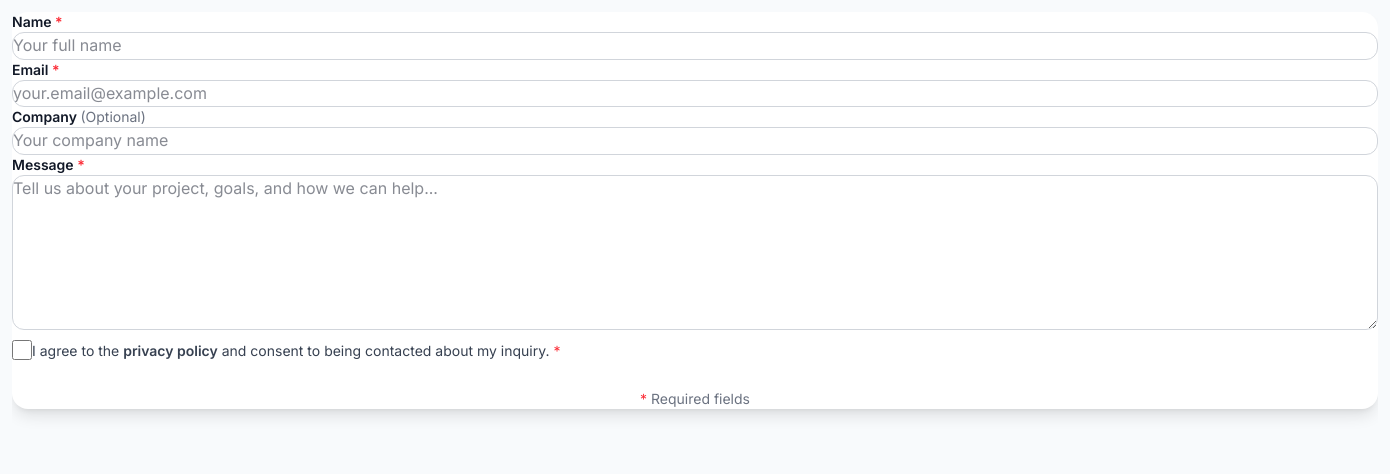
Test: ContactForm › clears form after successful submission
The width and height of the screenshot is (1390, 474).
# Fill in form
Type "John Doe" into the field labelled "Name *" at (695, 46), box [12, 32, 1378, 60]
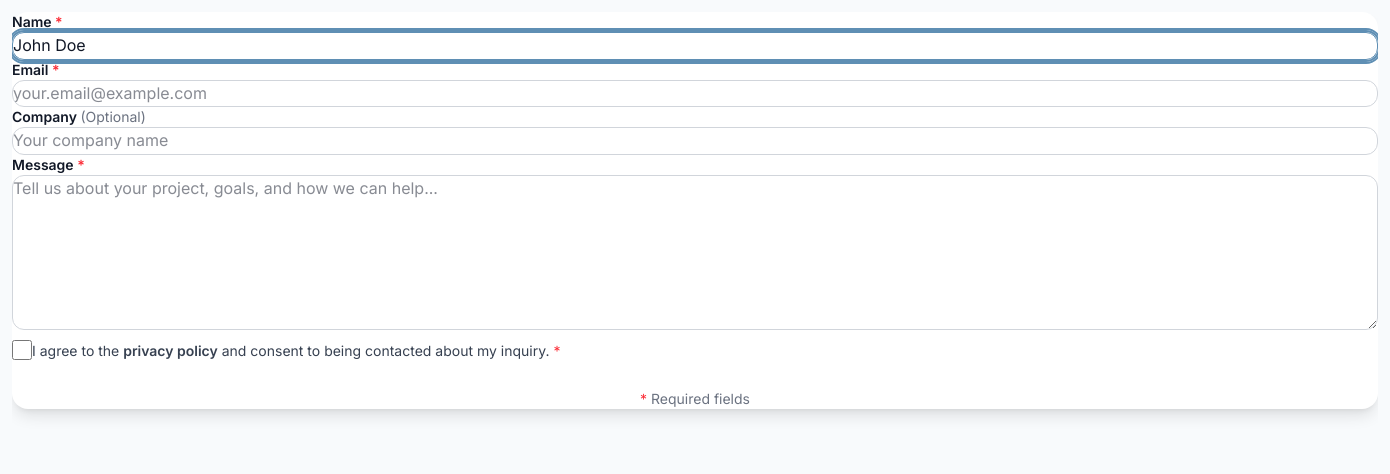
Type "john@example.com" into the field labelled "Email *" at (695, 93), box [12, 80, 1378, 107]
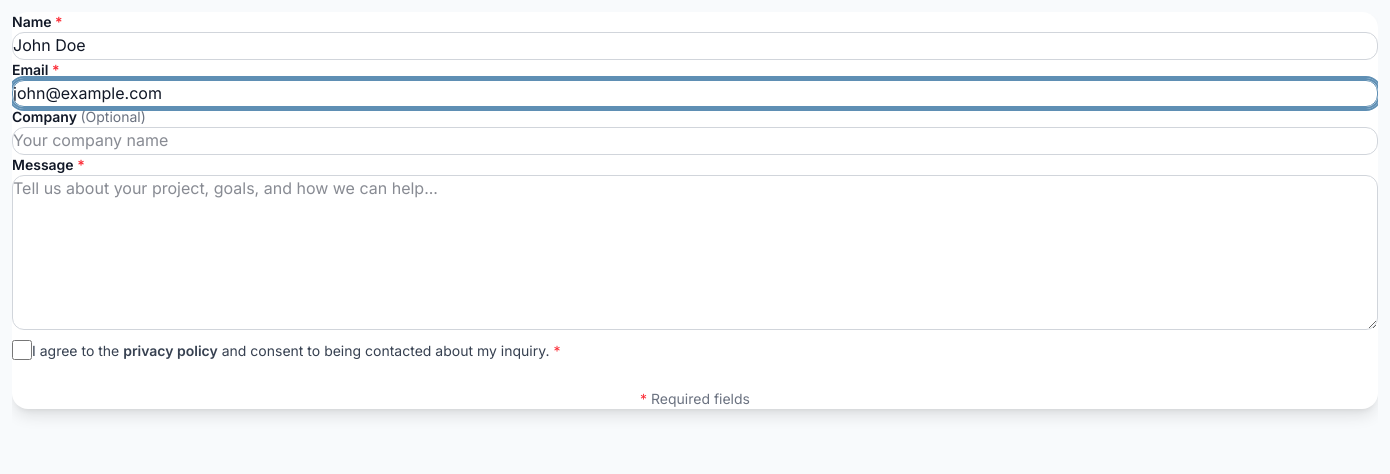
Type "This is a test message" into the text box labelled "Message *" at (695, 253), box [12, 175, 1378, 330]
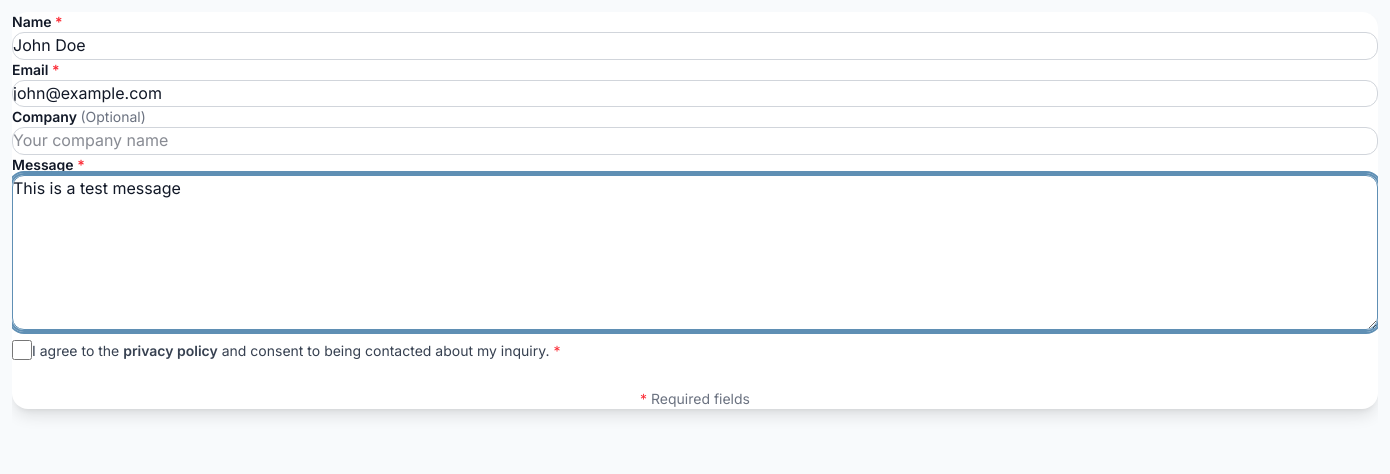
Click the checkbox labelled "privacy policy" at (22, 350), box [12, 340, 32, 360]
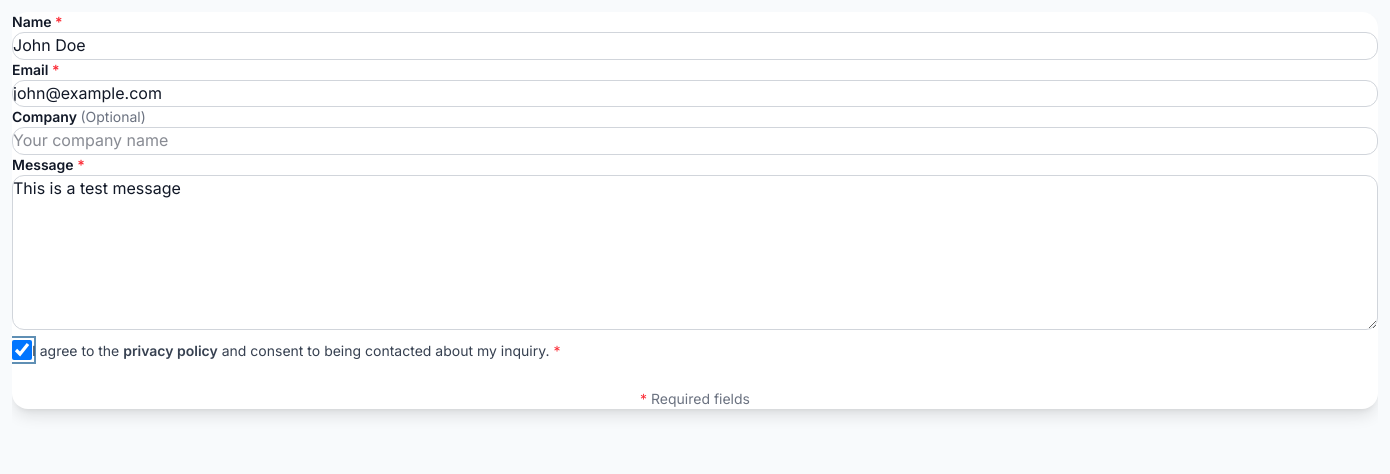
# Submit form
Click the button "Send Message" at (695, 376), box [12, 364, 1378, 389]
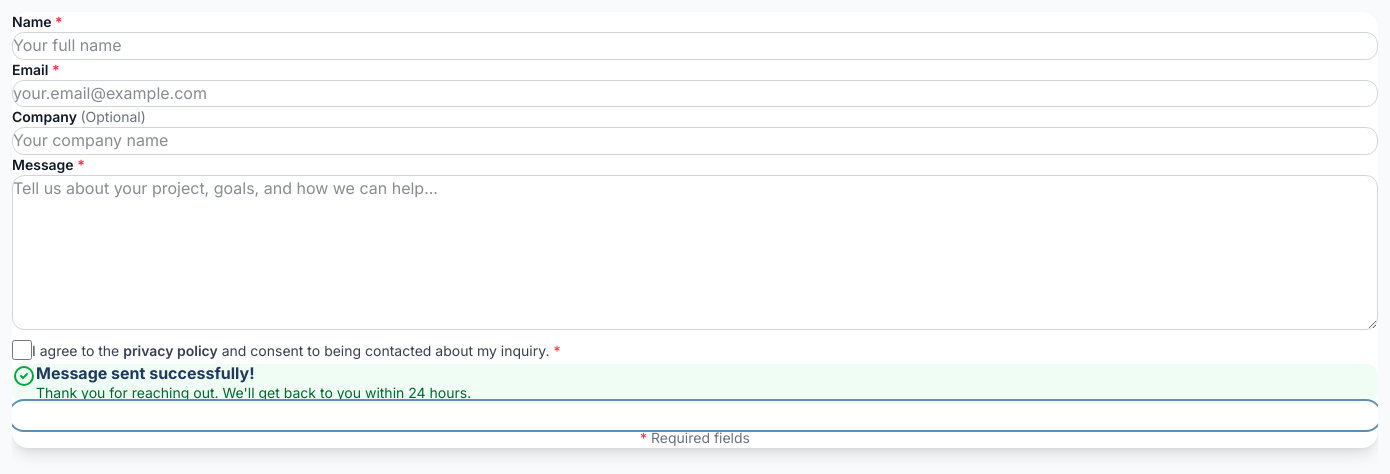
expect the heading "Message sent successfully!" is shown: met, box [36, 362, 255, 382]
expect the field labelled "Name *" is empty: met, box [12, 32, 1378, 60]
expect the field labelled "Email *" is empty: met, box [12, 80, 1378, 107]
